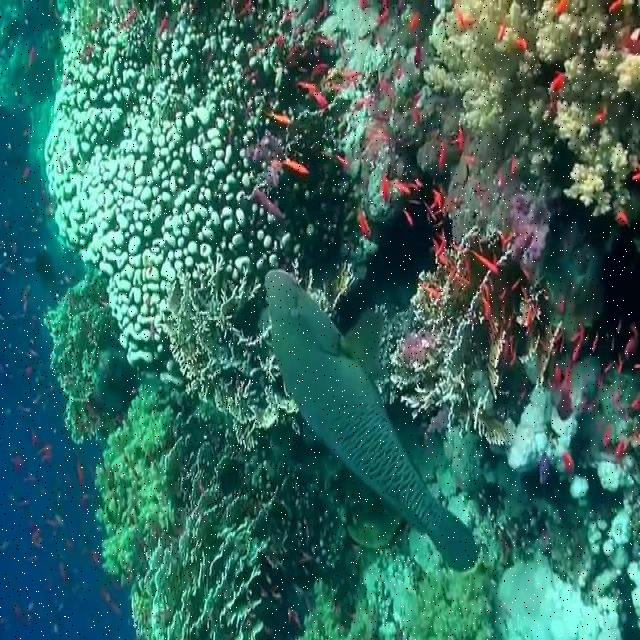fish: (263, 263, 482, 577)
reefs: (39, 5, 346, 372), (40, 265, 298, 639), (420, 3, 638, 215)
